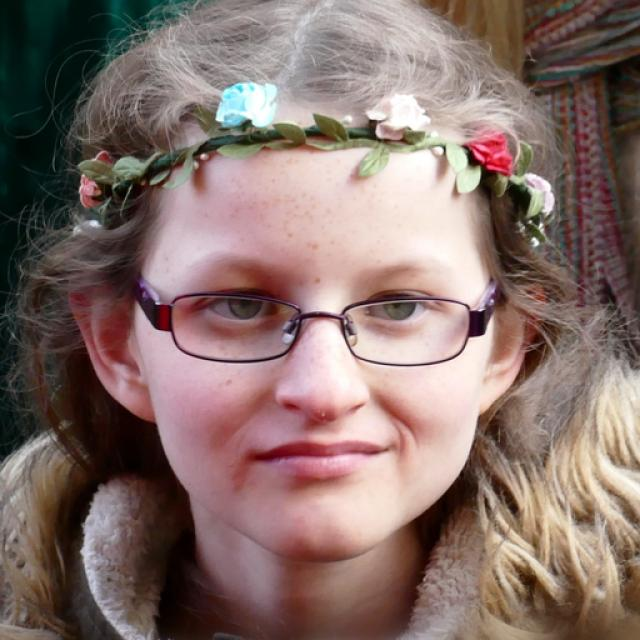Pigmentation: (210, 171, 348, 292)
